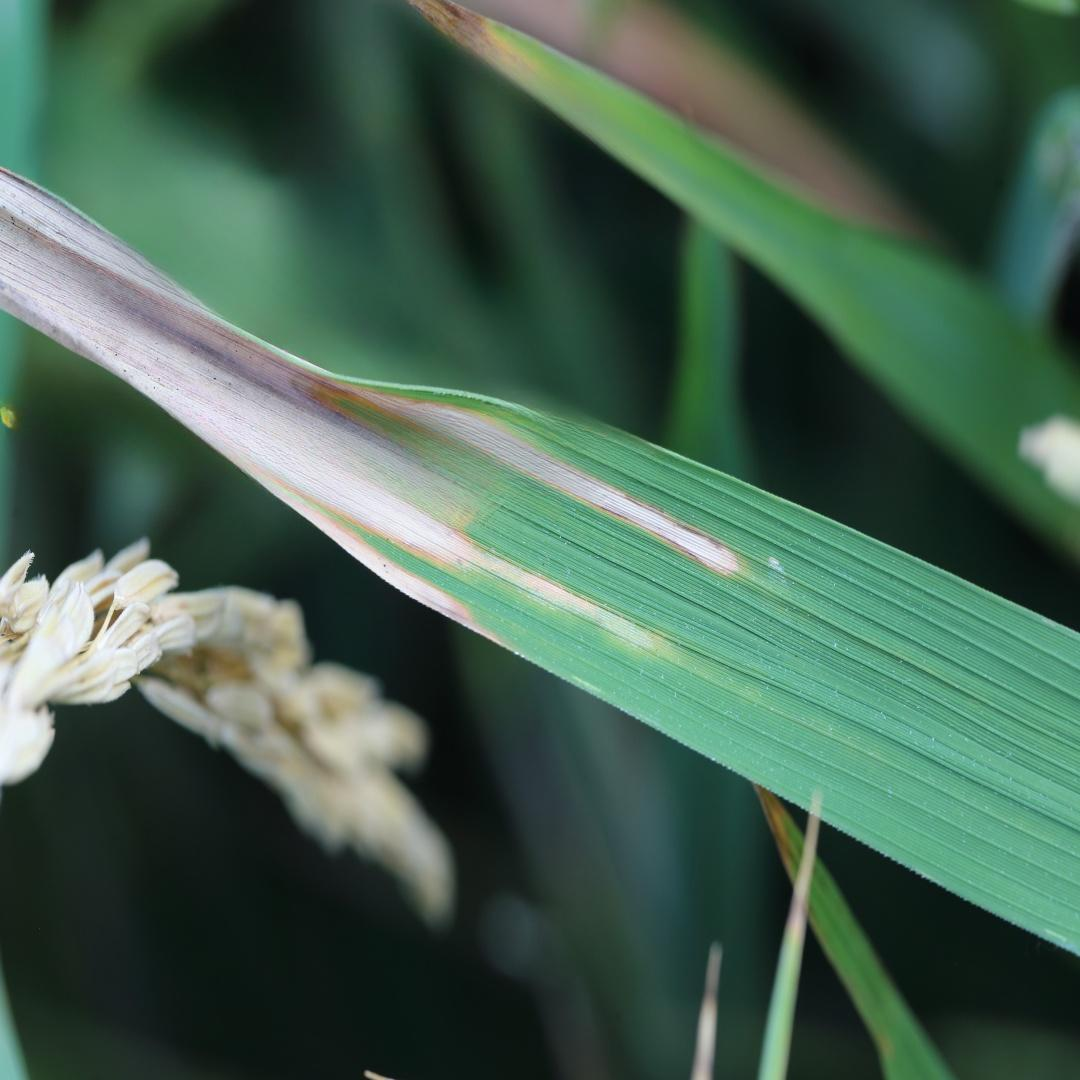BLB: (3, 168, 740, 652)
LEAF: (0, 166, 1079, 953)
